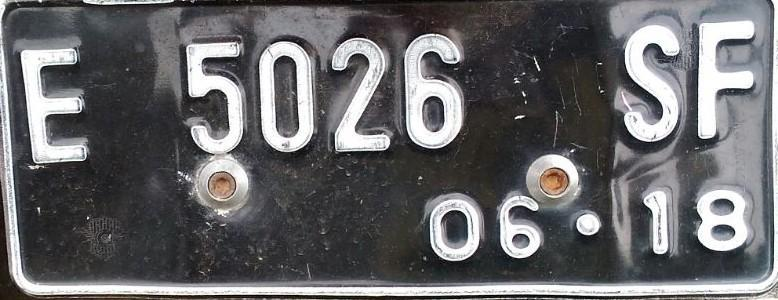clone-license-plate: (0, 0, 776, 295)
